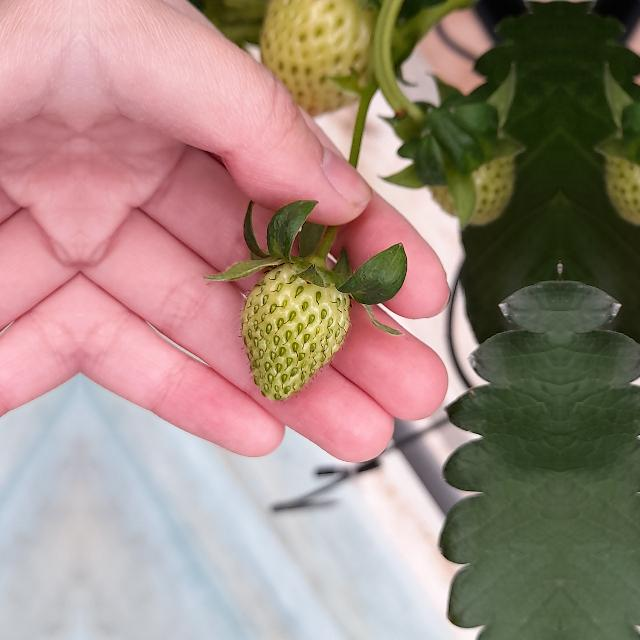Health_25: (252, 0, 380, 124), (240, 262, 352, 401), (414, 127, 518, 229), (602, 127, 640, 229)
